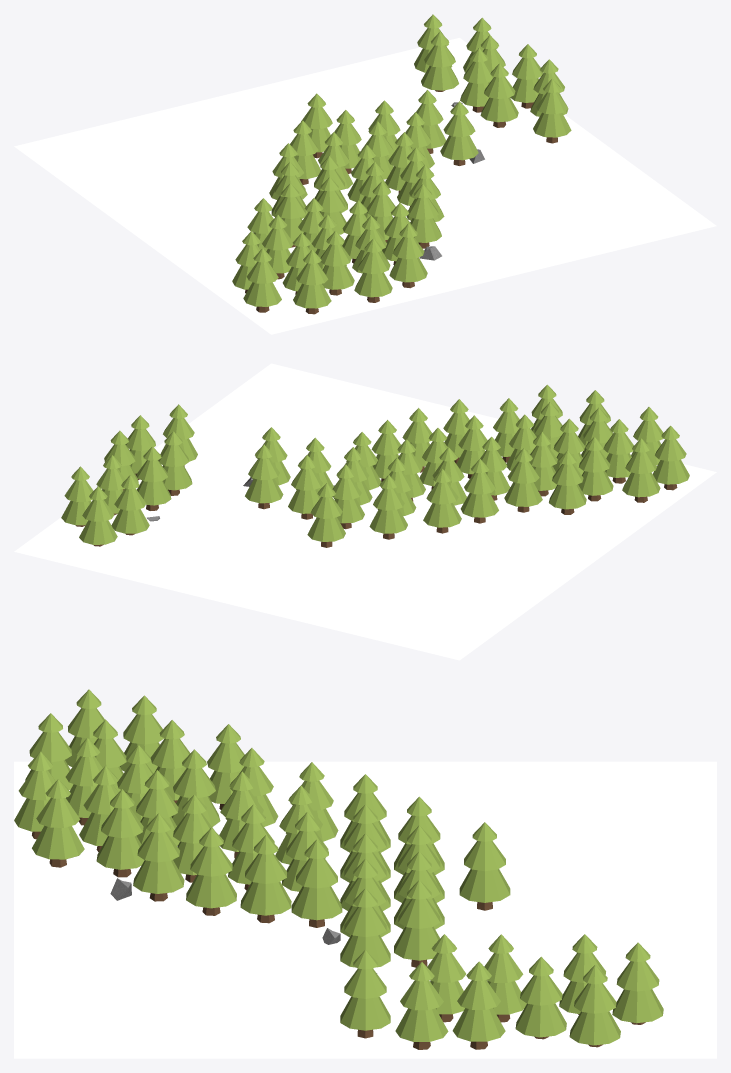
File: Forestnotjoin.fbx
3 views of the same model, one above another, from view 1: azimuth 30°, elevation 25°; view 2: azimuth 150°, elevation 25°; view 3: azimuth 270°, elevation 25° (orthographic). The views are drawn at different scales.
Parts seen in each view (by area): view 1: Plane, Tree; view 2: Plane, Tree; view 3: Plane, Tree.
Boxes of the visible parts, box(x1,y1,x2,y2) form: Plane: box(14, 38, 716, 334); Tree: box(232, 14, 571, 314); Plane: box(14, 363, 716, 660); Tree: box(61, 384, 689, 547); Plane: box(14, 761, 716, 1058); Tree: box(14, 689, 663, 1049).
Bounding box in the file's own units: 1014 × 156 × 1014.
Materials: 3 (2 with a texture image).
